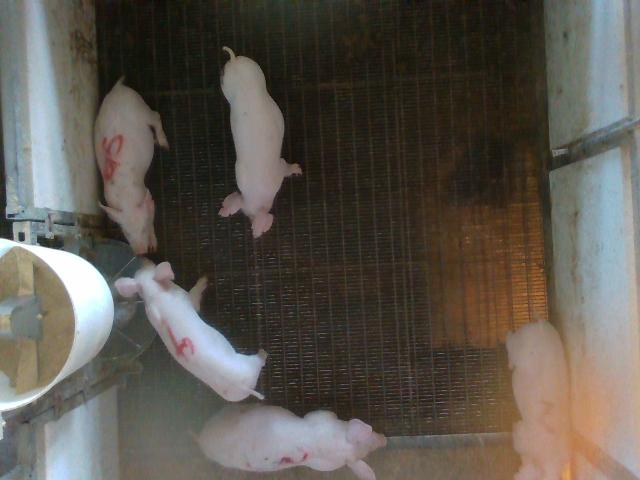pig-2: (506, 320, 571, 478)
pig-3: (196, 404, 386, 479)
pig-4: (116, 259, 266, 401)
pig-5: (95, 76, 169, 254)
